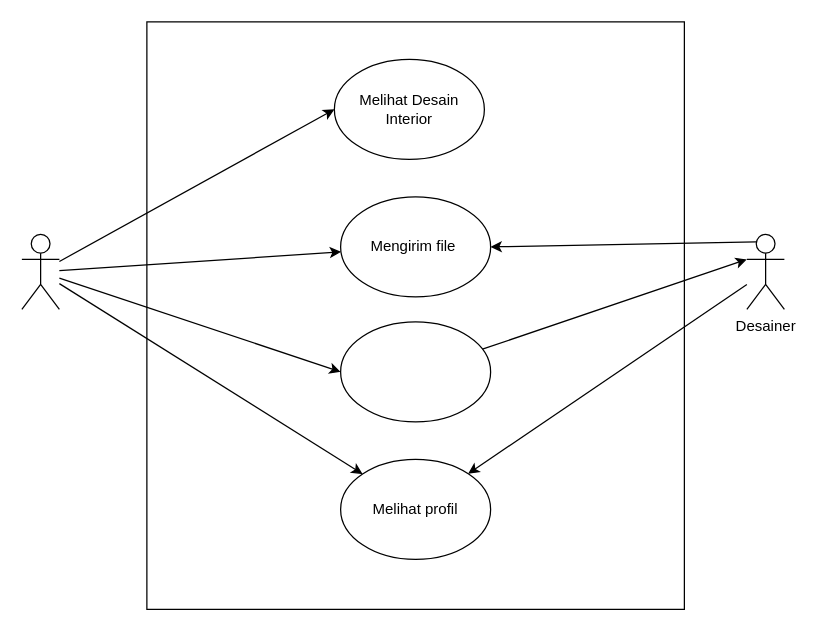
This 818x631 diagram has some shape labels left out. The shapes that lost their labels are listed below. From the top down, each one's box as (x1, y1, x2, y2) in pixels, then its label:
(21, 233, 59, 309): Klien
(339, 321, 491, 422): Konsultasi
